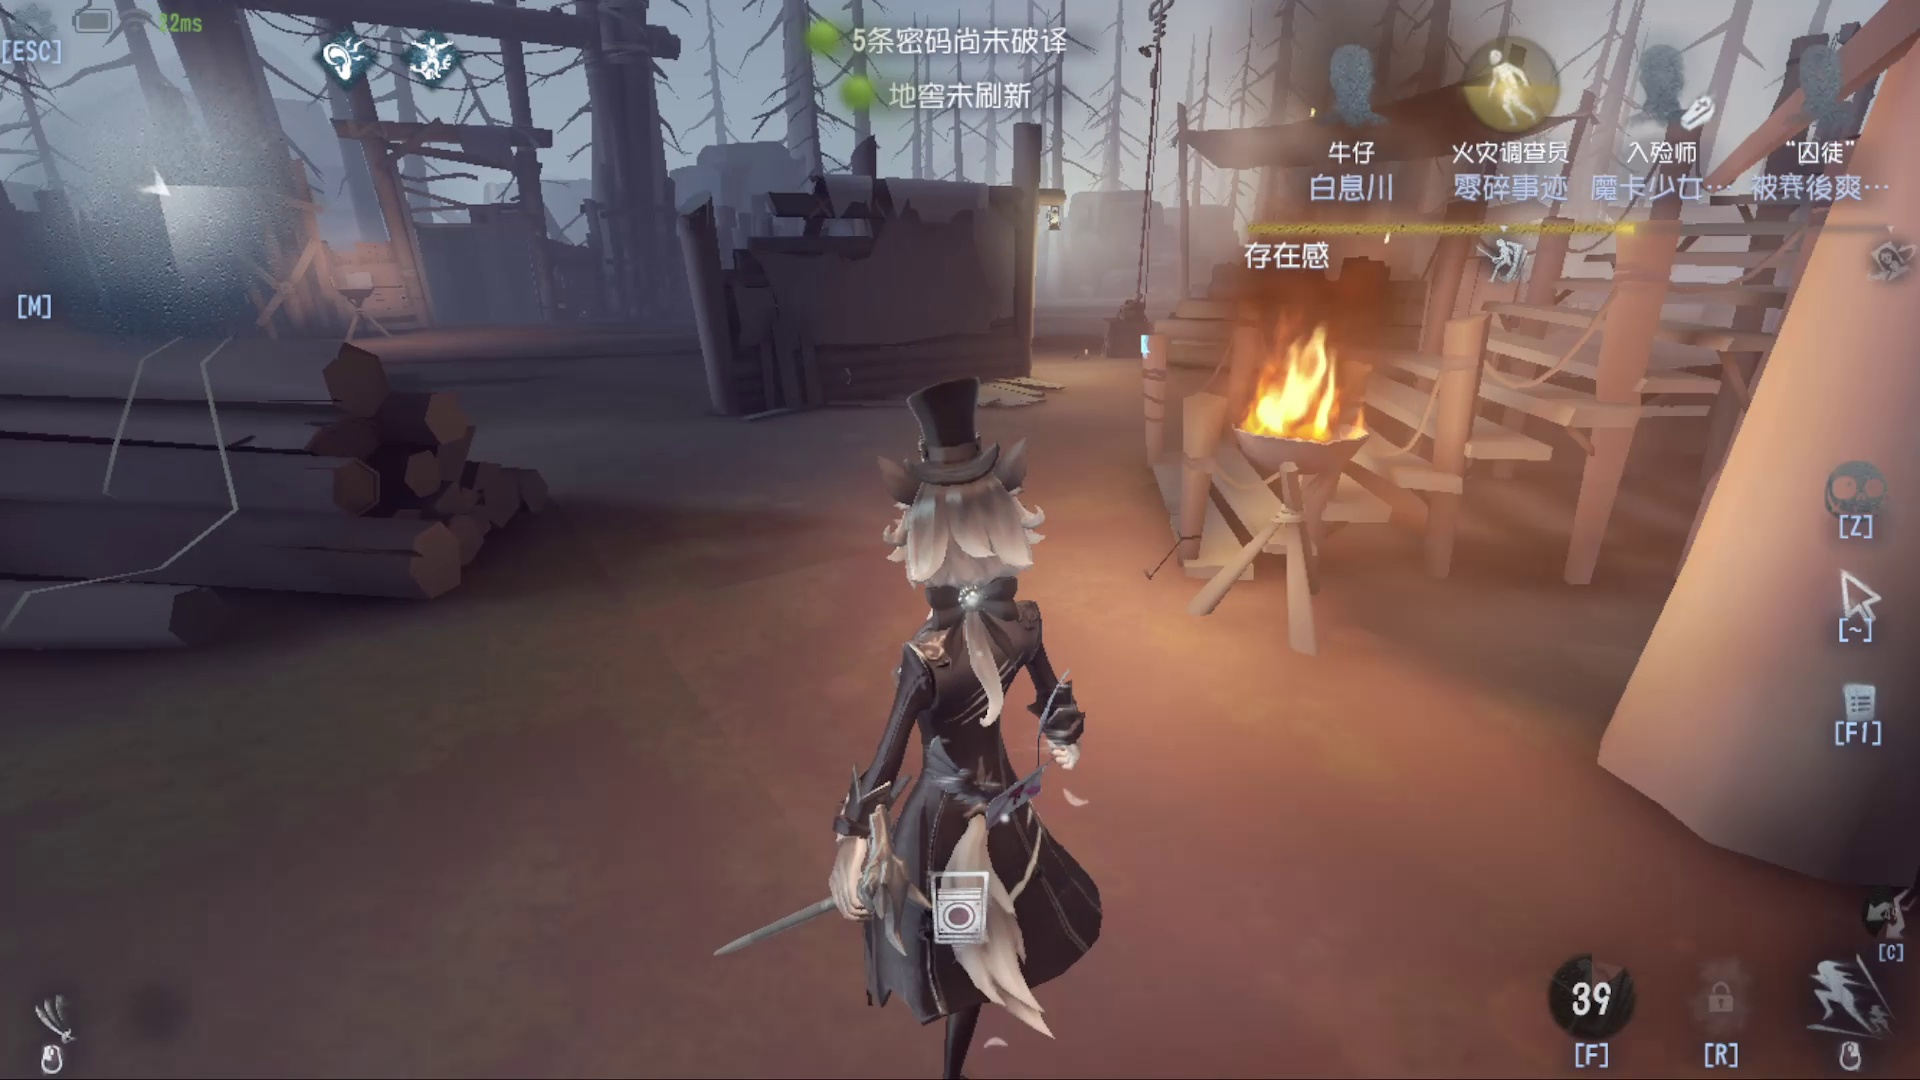密码机: (1124, 18, 1185, 369)
